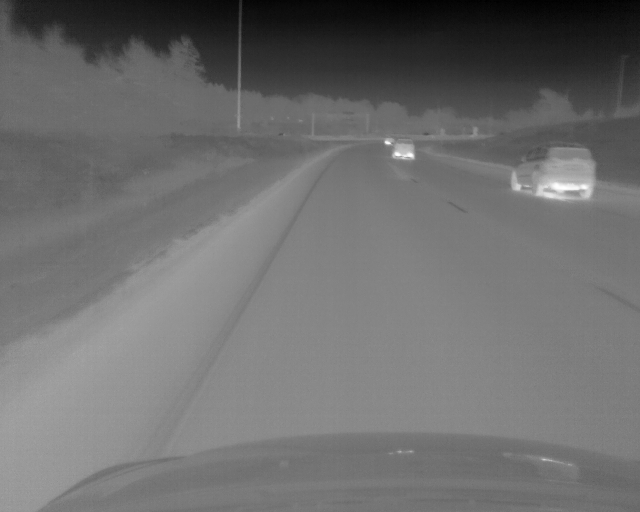car: (509, 144, 596, 200), (392, 137, 416, 159), (383, 136, 394, 145)
